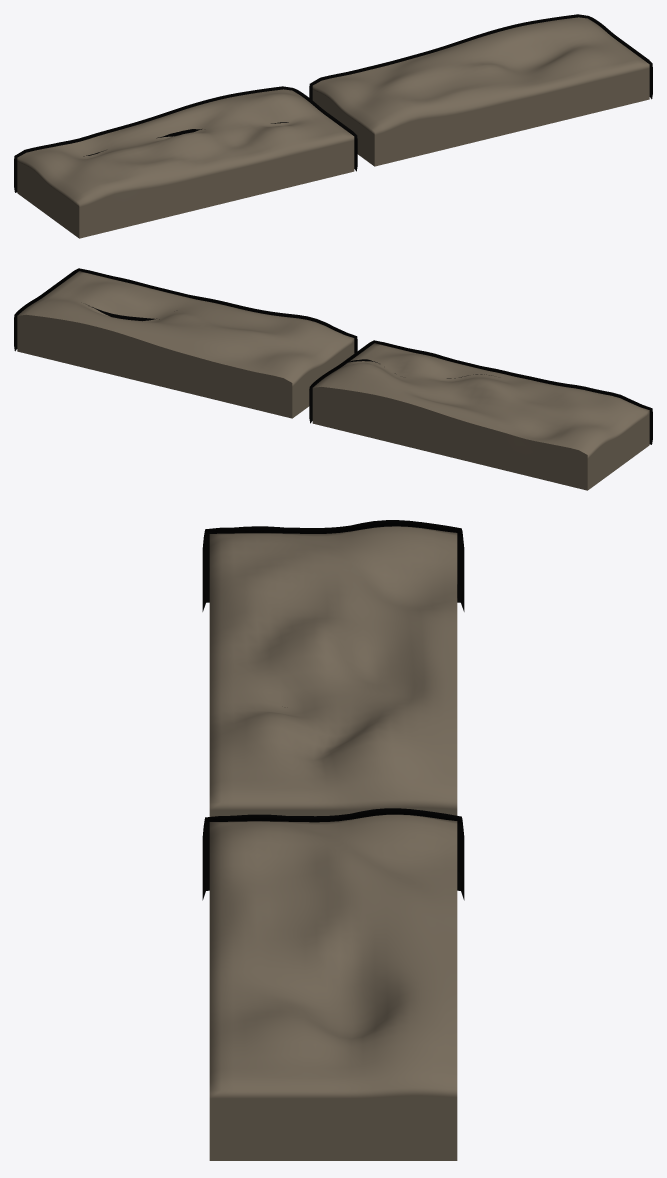
File: Platforms_001.fbx
3 views of the same model, one above another, from view 1: azimuth 30°, elevation 25°; view 2: azimuth 150°, elevation 25°; view 3: azimuth 270°, elevation 25° (orthographic). The views are drawn at different scales.
Visible parts, largest first — view 1: polySurface12, polySurface10, polySurface11, polySurface9; view 2: polySurface12, polySurface10, polySurface9, polySurface11; view 3: polySurface10, polySurface12, polySurface11, polySurface9.
Part boxes in pixels (x1,y1,x2,y2): polySurface12: (17,89,354,238); polySurface10: (312,17,649,166); polySurface11: (14,86,357,192); polySurface9: (309,14,652,99); polySurface12: (312,343,649,490); polySurface10: (17,271,354,418); polySurface9: (14,268,357,353); polySurface11: (309,340,652,444); polySurface10: (209,814,457,1160); polySurface12: (209,526,457,816); polySurface11: (202,520,464,611); polySurface9: (202,808,464,900).
Bounding box in the file's own units: 38.44 × 3.56 × 7.56.
